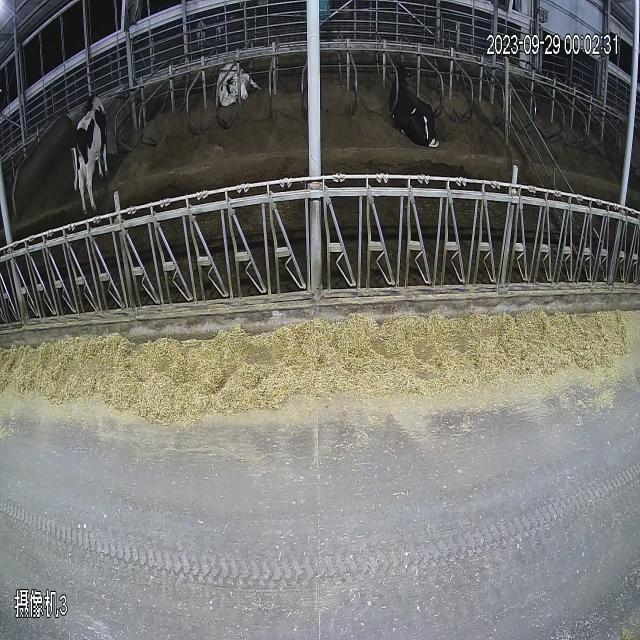drinking: (58, 72, 126, 215)
lying down: (378, 48, 433, 162), (212, 44, 272, 136)
